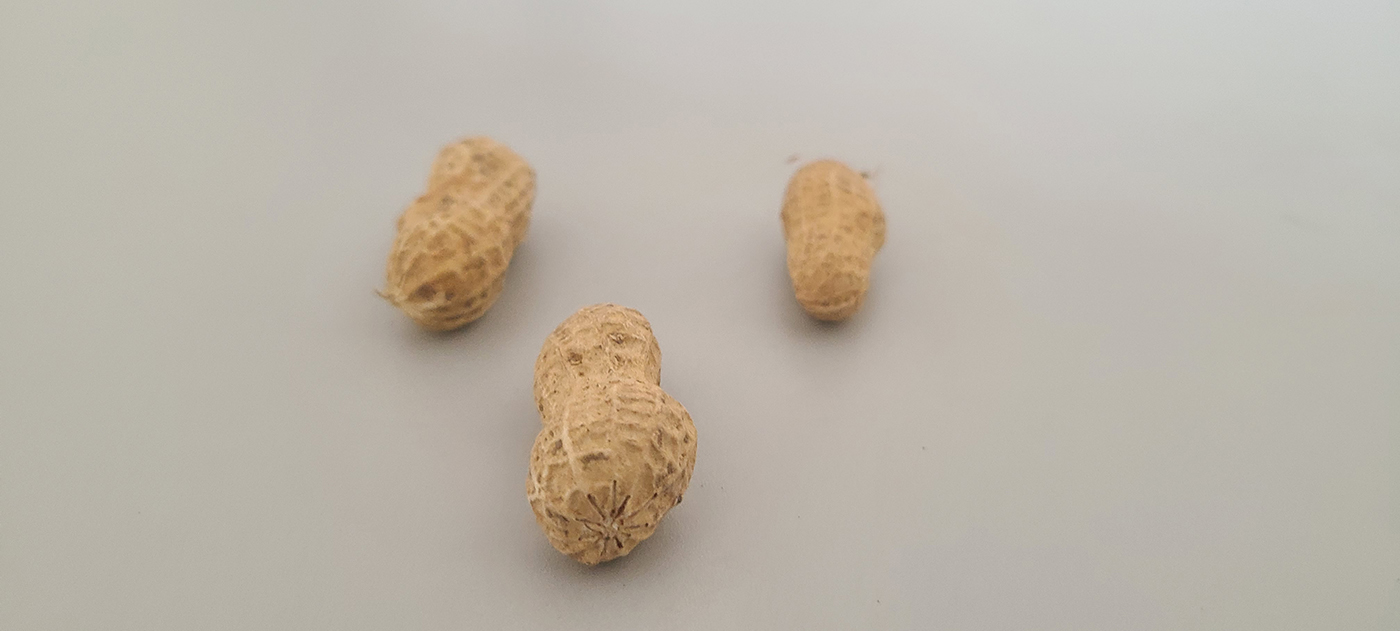h: (529, 302, 694, 564), (386, 134, 536, 332), (779, 159, 887, 324)
